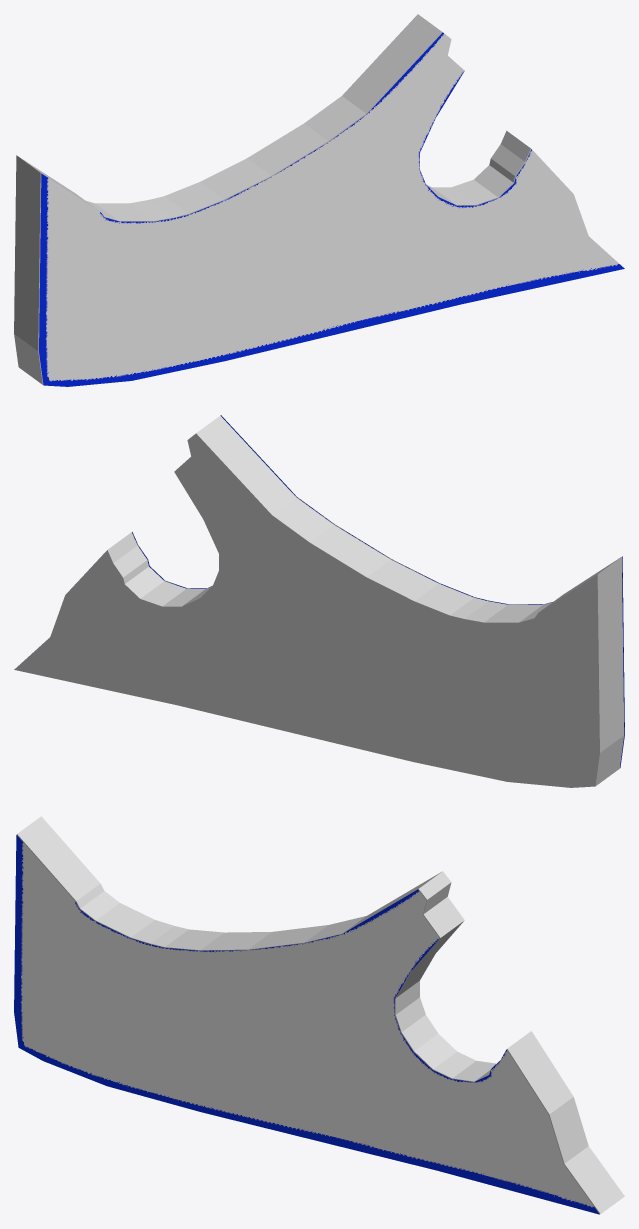
3 renders of one model, top to bottom at view 1: azimuth 30°, elevation 25°; view 2: azimuth 150°, elevation 25°; view 3: azimuth 330°, elevation 25°, orthographic.
Visible parts, largest first — view 1: Out_2_1, Out_2_0; view 2: Out_2_0, Out_2_1; view 3: Out_2_1, Out_2_0.
Part boxes in pixels (x1,y1,x2,y2): Out_2_1: [39, 32, 624, 386]; Out_2_0: [14, 14, 531, 384]; Out_2_0: [14, 415, 624, 787]; Out_2_1: [132, 415, 624, 767]; Out_2_1: [14, 835, 599, 1214]; Out_2_0: [17, 816, 624, 1213].
Size of the model in its own units: 6.98 by 3.2 by 0.515.
Materials: 2 (1 with a texture image).
